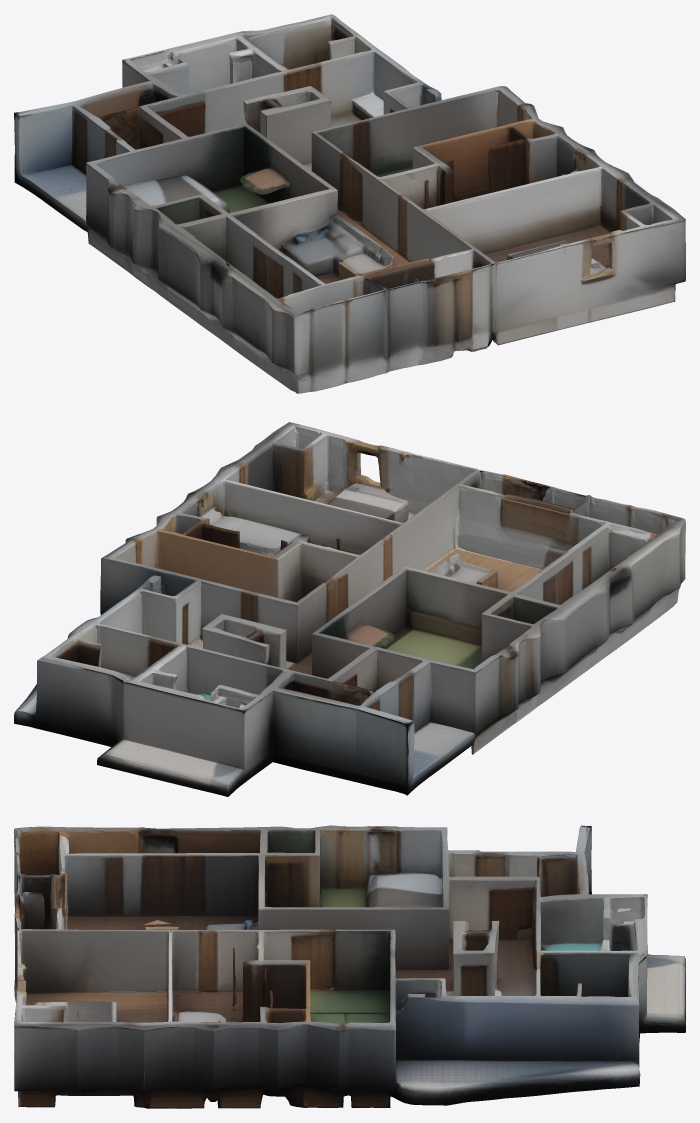
The picture shows the model from 3 angles, top to bottom: view 1: azimuth 30°, elevation 25°; view 2: azimuth 150°, elevation 25°; view 3: azimuth 270°, elevation 25°; orthographic projection. The views are drawn at different scales.
Visible parts, largest first — view 1: world; view 2: world; view 3: world.
Part boxes in pixels (x1,y1,x2,y2): world: (14, 14, 685, 393); world: (14, 422, 685, 796); world: (14, 825, 685, 1108).
Bounding box in the file's own units: 0.7357 × 0.1506 × 1.
Materials: 1 (1 with a texture image).
